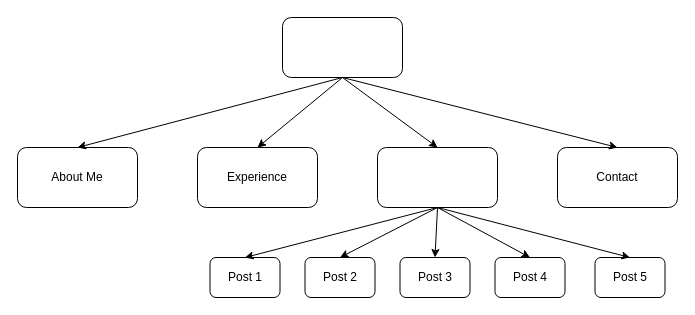
Some shapes in this 695 by 315 pixel diagram are drawn without their labels. Here are the shapes that lost their labels. From the top down, the centre of each, then its label:
At [342,47]: "Home".
At [437,177]: "Blog".
